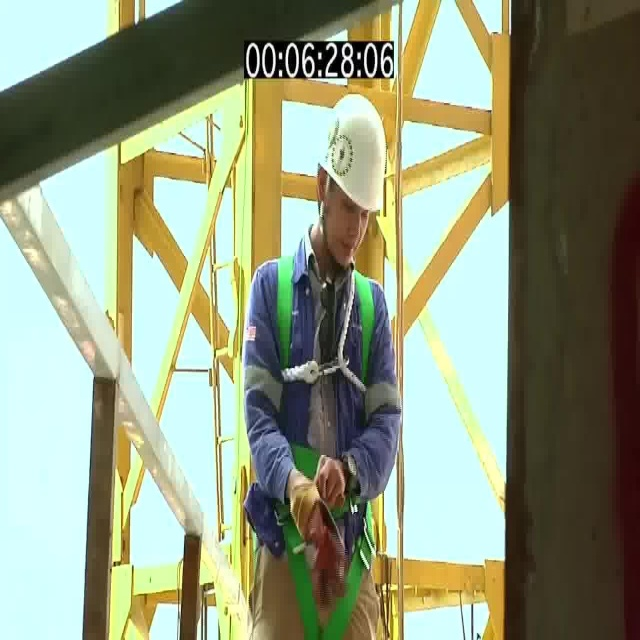Arnes_seguridad: (273, 251, 377, 635)
